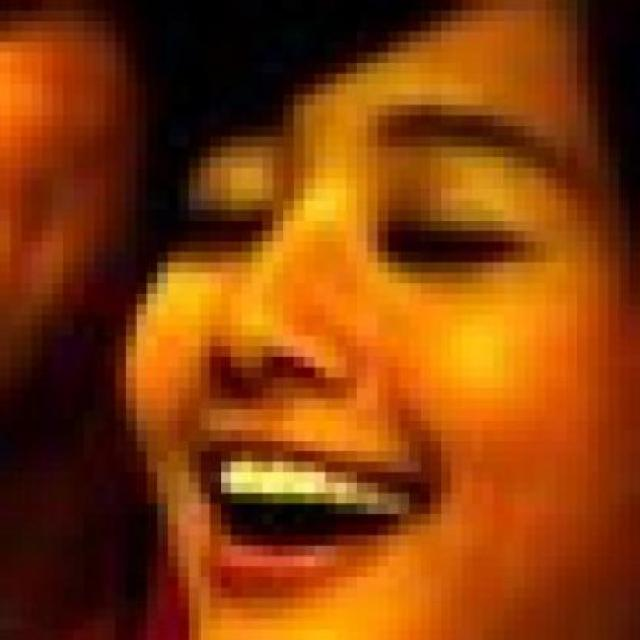drowsy: (384, 205, 528, 277), (186, 196, 266, 250)
